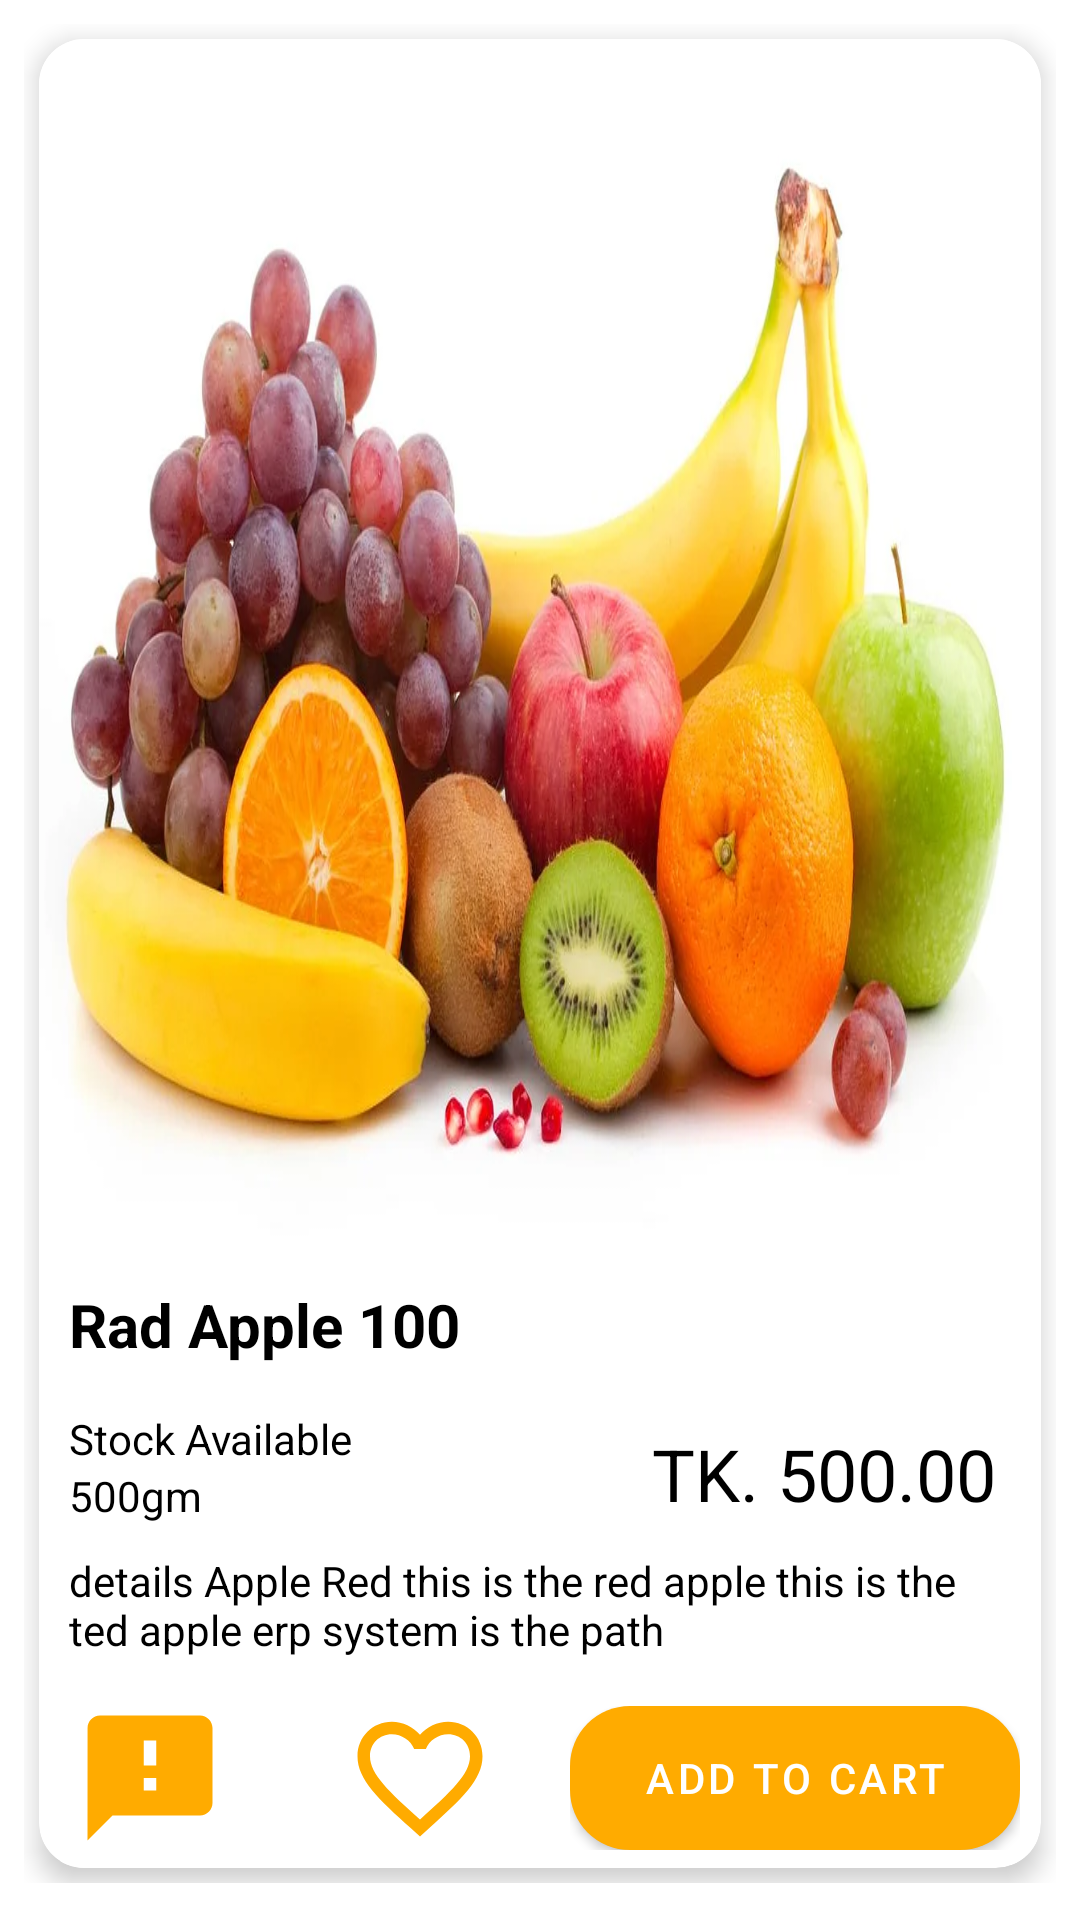

Locate icon controls on the screen. Image size 1080 × 1920, boxes as (x1, y1, x2, y2).
favorite botton: (357, 1721, 483, 1837)
feedback: (87, 1715, 213, 1841)
